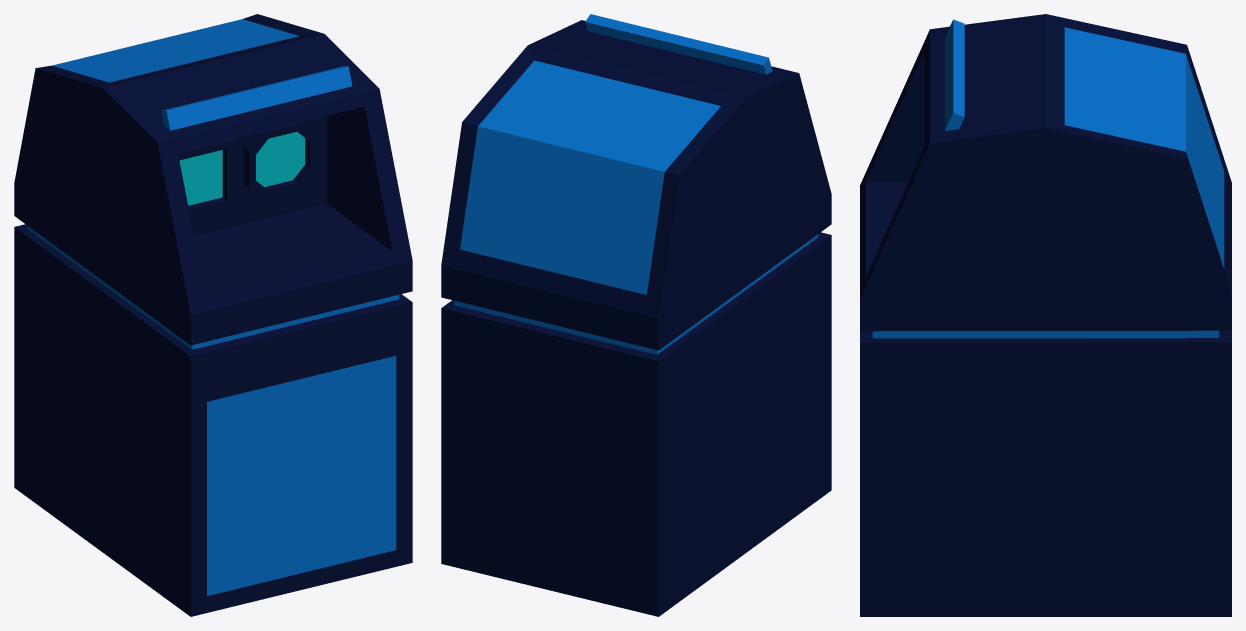
Rendered from DustBoxVer2Blue.fbx.
3 renders of one model, left to right at view 1: azimuth 30°, elevation 25°; view 2: azimuth 150°, elevation 25°; view 3: azimuth 270°, elevation 25°, orthographic. The views are drawn at different scales.
Visible parts, largest first — view 1: DustBoxVer2Blue; view 2: DustBoxVer2Blue; view 3: DustBoxVer2Blue.
Boxes of the visible parts, left/top/right/bottom form: DustBoxVer2Blue: left=14, top=14, right=412, bottom=616; DustBoxVer2Blue: left=441, top=14, right=831, bottom=616; DustBoxVer2Blue: left=860, top=14, right=1231, bottom=616.
Bounding box in the file's own units: 71.05 × 144 × 97.89.
